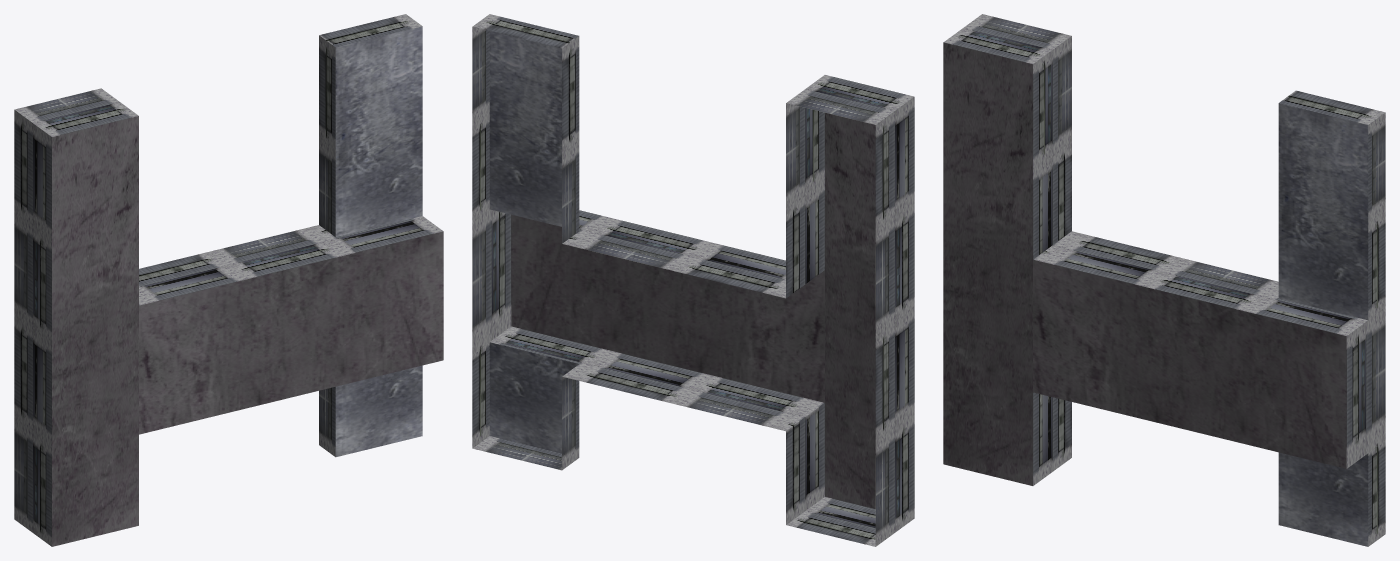
The model's file is urbanconc01e_wtf.obj.
3 views of the same model, side by side, from view 1: azimuth 30°, elevation 25°; view 2: azimuth 150°, elevation 25°; view 3: azimuth 330°, elevation 25° (orthographic). The views are drawn at different scales.
Parts seen in each view (by area): view 1: group4, group3, group5; view 2: group3, group4, group5; view 3: group4, group3, group5.
Boxes of the visible parts, <box> form: group4: <box>52,116,443,546</box>; group3: <box>14,14,442,546</box>; group5: <box>335,26,422,456</box>; group3: <box>472,14,914,546</box>; group4: <box>511,112,875,508</box>; group5: <box>489,31,578,453</box>; group4: <box>943,42,1346,485</box>; group3: <box>944,14,1385,546</box>; group5: <box>1278,103,1368,546</box>.
Size of the model in its own units: 660 by 660 by 110.
